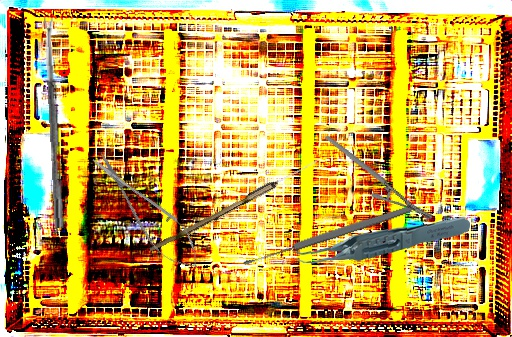Micro Scissor: (82, 143, 211, 280)
Needle Holder: (324, 110, 436, 245)
Surgical Spoon: (148, 155, 322, 256), (241, 203, 414, 269), (43, 17, 66, 229)
Tissue Forceps: (286, 207, 471, 272)
